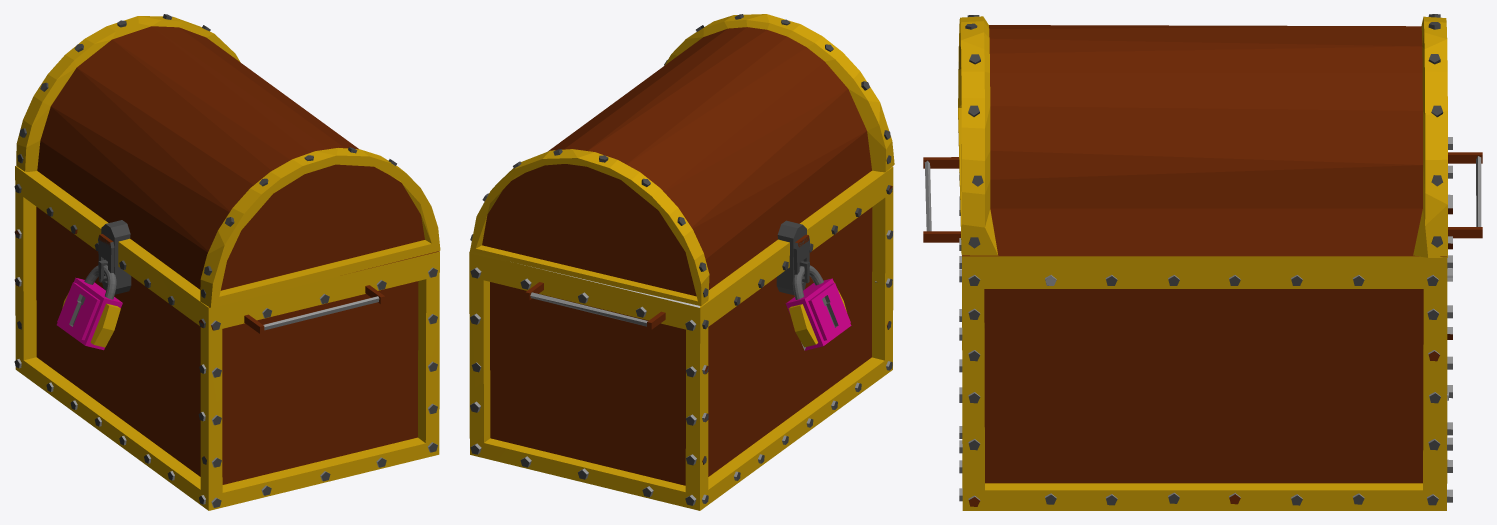
File: PurpleChestAndLock.fbx
3 views of the same model, side by side, from view 1: azimuth 30°, elevation 25°; view 2: azimuth 150°, elevation 25°; view 3: azimuth 270°, elevation 25° (orthographic). The views are drawn at different scales.
Parts seen in each view (by area): view 1: Cube.001, Cube; view 2: Cube.001, Cube; view 3: Cube.001.
Boxes of the visible parts, left/top/right/bottom form: Cube.001: left=14, top=14, right=440, bottom=510; Cube: left=56, top=265, right=122, bottom=350; Cube.001: left=469, top=14, right=894, bottom=510; Cube: left=785, top=265, right=851, bottom=350; Cube.001: left=923, top=14, right=1482, bottom=510.
Bounding box in the file's own units: 239 × 270 × 334.
